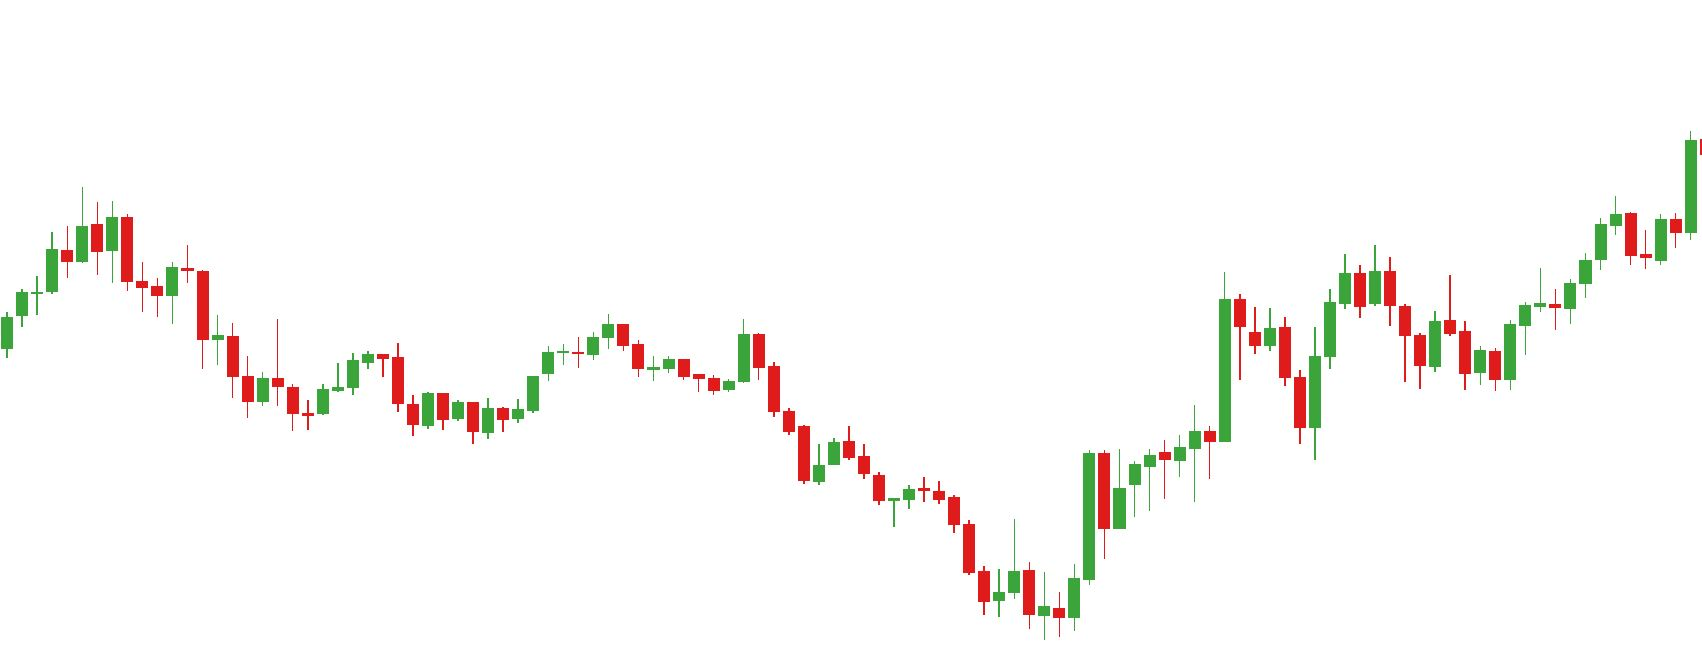sell: (649, 319, 769, 382)
